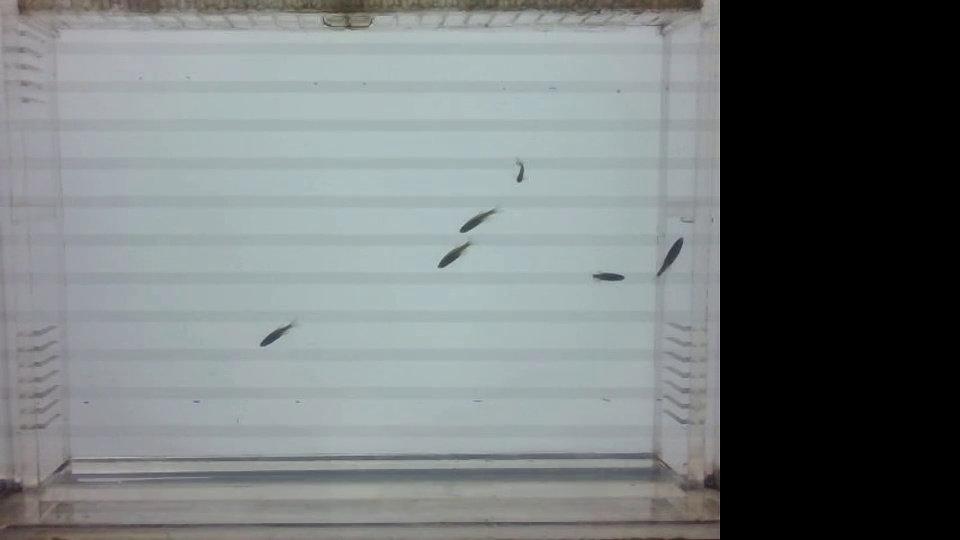fish: (244, 306, 308, 357), (641, 233, 692, 284), (425, 244, 481, 277), (452, 204, 501, 237), (580, 264, 628, 292), (508, 149, 536, 189)
